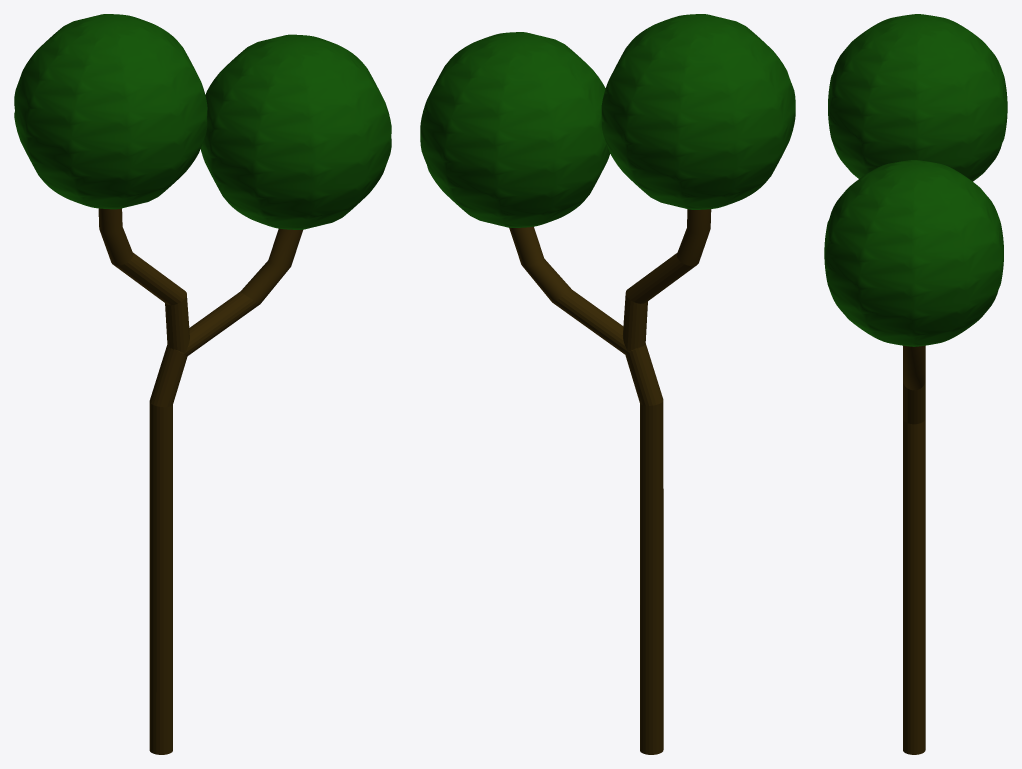
The model's file is Tree.fbx.
3 renders of one model, left to right at view 1: azimuth 30°, elevation 25°; view 2: azimuth 150°, elevation 25°; view 3: azimuth 270°, elevation 25°, orthographic. The views are drawn at different scales.
Visible parts, largest first — view 1: polySurface4, polySurface1, polySurface2, polySurface3; view 2: polySurface4, polySurface1, polySurface2, polySurface3; view 3: polySurface1, polySurface4, polySurface2.
Boxes of the visible parts, x1,y1,x2,y2 form: polySurface4: [14, 14, 207, 209]; polySurface1: [200, 34, 391, 229]; polySurface2: [149, 228, 302, 754]; polySurface3: [98, 208, 189, 352]; polySurface4: [601, 14, 795, 209]; polySurface1: [420, 32, 609, 227]; polySurface2: [509, 226, 663, 754]; polySurface3: [622, 209, 711, 350]; polySurface1: [824, 160, 1003, 346]; polySurface4: [828, 14, 1007, 181]; polySurface2: [903, 345, 925, 754].
Size of the model in its own units: 4.09 by 8.23 by 1.94.
